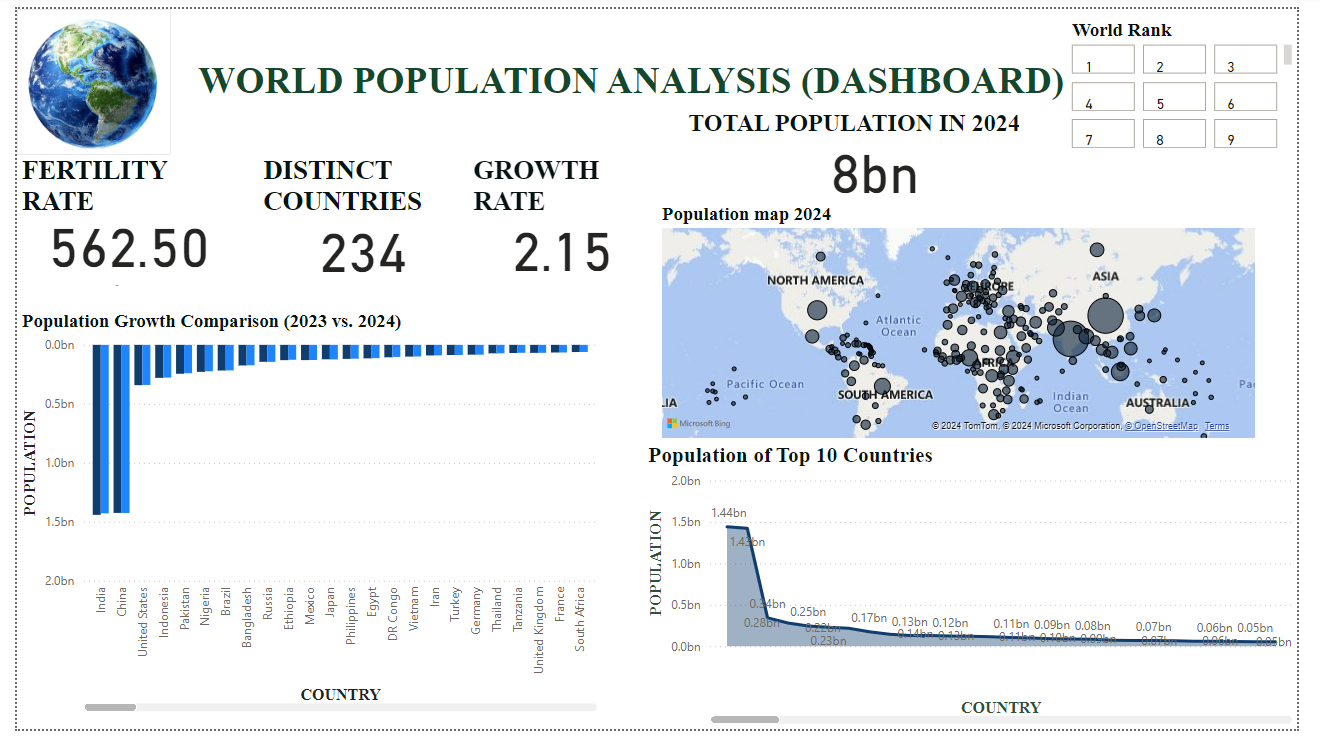

The dashboard page shown, as its layout file describes it:
{"tool":"powerbi","page":{"name":"Page 1","canvas":[1280,720],"ordinal":0},"visuals":[{"type":"textbox","box":[176.2,45.6,887,55.4],"z":0},{"type":"image","box":[0,0,153.8,146.2],"z":1000},{"type":"card","title":"TOTAL POPULATION IN 2024","fields":{"Values":["Sum(World Population by country 202.Population 2024)"]},"box":[666.2,100,383.8,90],"z":2000},{"type":"card","title":"DISTINCT COUNTRIES ","fields":{"Values":["Count(World Population by country 202.Country)"]},"box":[241.2,146.2,210,122.5],"z":3000},{"type":"lineChart","title":"Population of Top 10 Countries","fields":{"Category":["World Population by country 202.Country"],"Y":["Sum(World Population by country 202.Population 2024)"]},"box":[626.2,433.8,653.8,286.2],"z":4000},{"type":"map","title":"Population map 2024","fields":{"Category":["World Population by country 202.Country"],"Size":["Sum(World Population by country 202.Population 2024)"]},"box":[640,193.8,602.5,240],"z":5000},{"type":"advancedSlicerVisual","fields":{"Values":["World Population by country 202.World Rank"]},"box":[1050,10,230,136.2],"z":6000},{"type":"card","title":"FERTILITY RATE","fields":{"Values":["Sum(World Population by country 202.Fert. Rate)"]},"box":[0,146.2,222.5,135],"z":7000},{"type":"card","title":"GROWTH RATE","fields":{"Values":["Sum(World Population by country 202.Growth Rate)"]},"box":[451.2,146.2,188.8,121.2],"z":8000},{"type":"clusteredColumnChart","title":"Population Growth Comparison (2023 vs. 2024)","fields":{"Category":["World Population by country 202.Country"],"Y":["Sum(World Population by country 202.Population 2024)","Sum(World Population by country 202.Population 2023)"]},"box":[0,301.2,585,406.2],"z":9000}]}

Visuals, with their boxes in screenshot pixels (x1, y1, x2, y2), scaled from the page's 1280x720 canvas onto the 1320x742 screenshot:
textbox: (left=182, top=47, right=1096, bottom=104)
image: (left=0, top=0, right=159, bottom=151)
"TOTAL POPULATION IN 2024" card: (left=687, top=103, right=1083, bottom=196)
"DISTINCT COUNTRIES " card: (left=249, top=151, right=465, bottom=277)
"Population of Top 10 Countries" lineChart: (left=646, top=447, right=1319, bottom=741)
"Population map 2024" map: (left=660, top=200, right=1281, bottom=447)
advancedSlicerVisual - World Population by country 202.World Rank: (left=1083, top=10, right=1319, bottom=151)
"FERTILITY RATE" card: (left=0, top=151, right=229, bottom=290)
"GROWTH RATE" card: (left=465, top=151, right=660, bottom=276)
"Population Growth Comparison (2023 vs. 2024)" clusteredColumnChart: (left=0, top=310, right=603, bottom=729)
